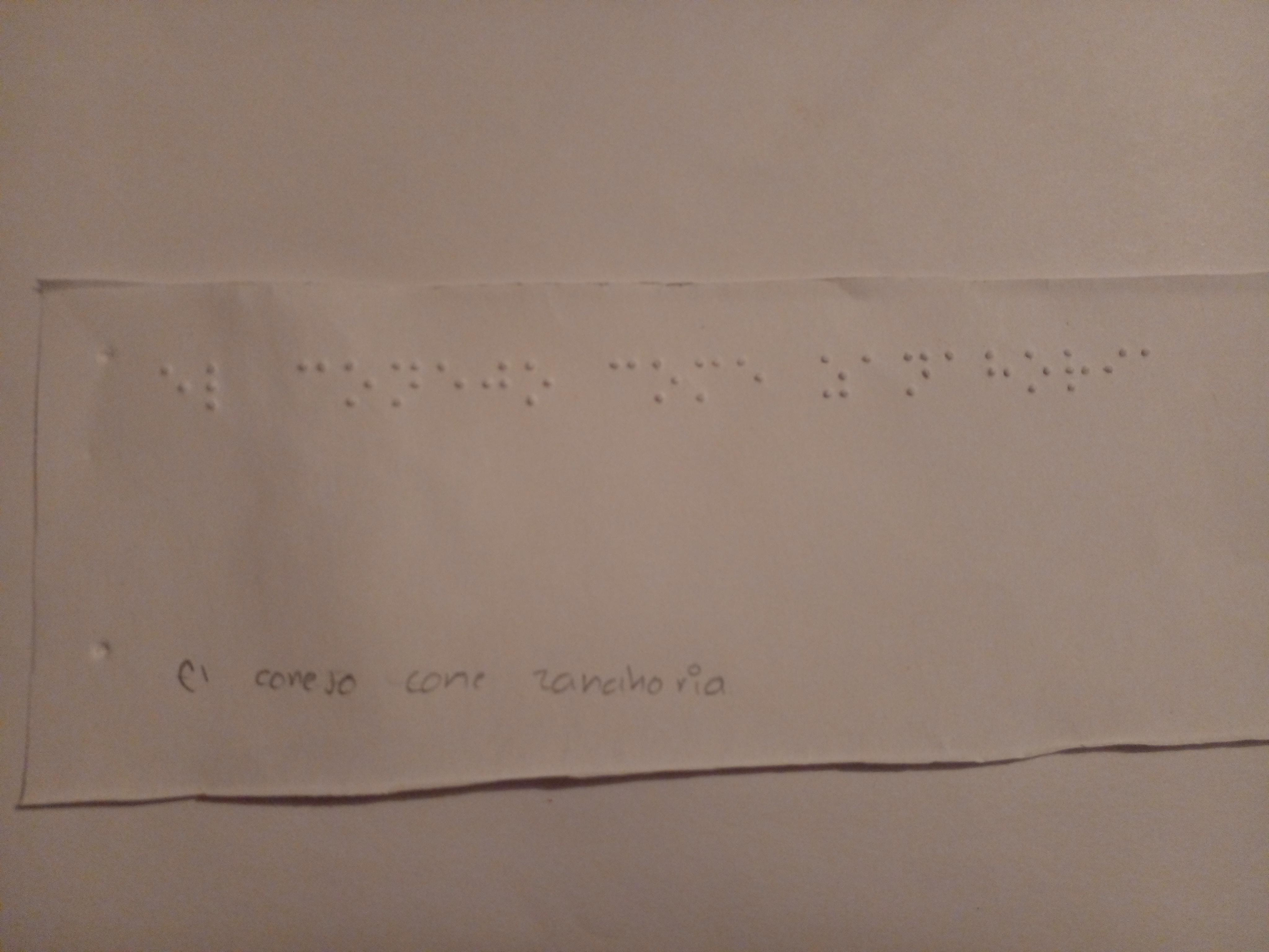a: (929, 341, 971, 412), (1129, 335, 1165, 398), (855, 342, 881, 403)
c: (290, 344, 335, 417), (599, 355, 643, 415)
e: (728, 344, 773, 418), (426, 353, 471, 420), (160, 350, 198, 421)
h: (977, 339, 1016, 404)
i: (1101, 338, 1128, 400)
j: (476, 352, 517, 423)
l: (195, 350, 232, 431)
m: (689, 350, 723, 415)
n: (381, 352, 424, 425), (894, 342, 936, 406)
o: (517, 349, 558, 423), (1015, 339, 1055, 408), (341, 349, 376, 421), (649, 353, 683, 423)
r: (1053, 336, 1094, 400)
z: (809, 346, 855, 412)
